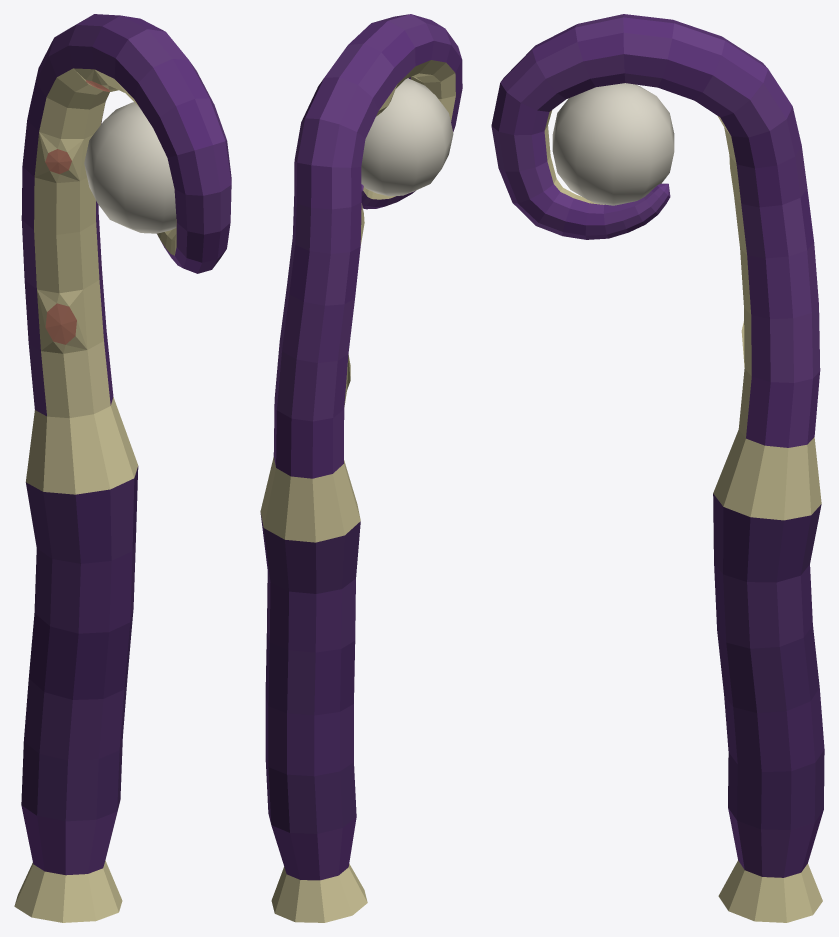
Rendered from Kraken_Trident.glb.
The picture shows the model from 3 angles, left to right: view 1: azimuth 30°, elevation 25°; view 2: azimuth 150°, elevation 25°; view 3: azimuth 270°, elevation 25°; orthographic projection. The views are drawn at different scales.
Visible parts, largest first — view 1: Kraken_Trident; view 2: Kraken_Trident; view 3: Kraken_Trident.
Boxes of the visible parts, x1,y1,x2,y2 form: Kraken_Trident: (14, 14, 231, 922); Kraken_Trident: (260, 14, 462, 922); Kraken_Trident: (491, 14, 824, 922).
Size of the model in its own units: 0.0886 by 0.6786 by 0.2289.
